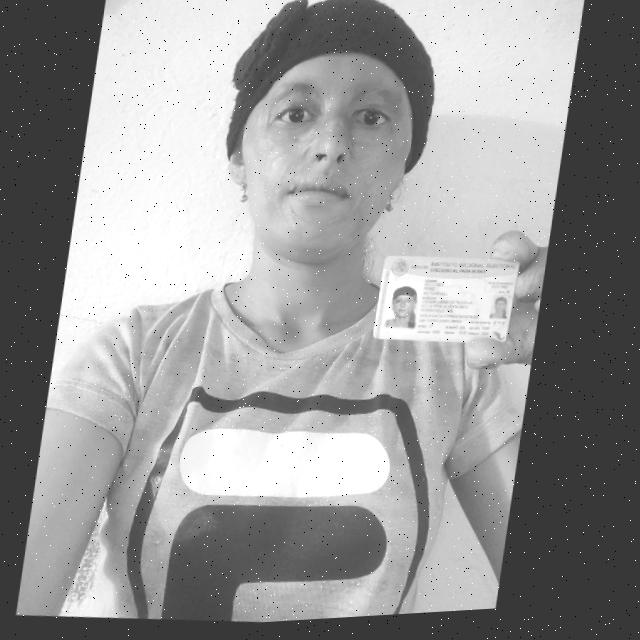card: (373, 255, 518, 342)
